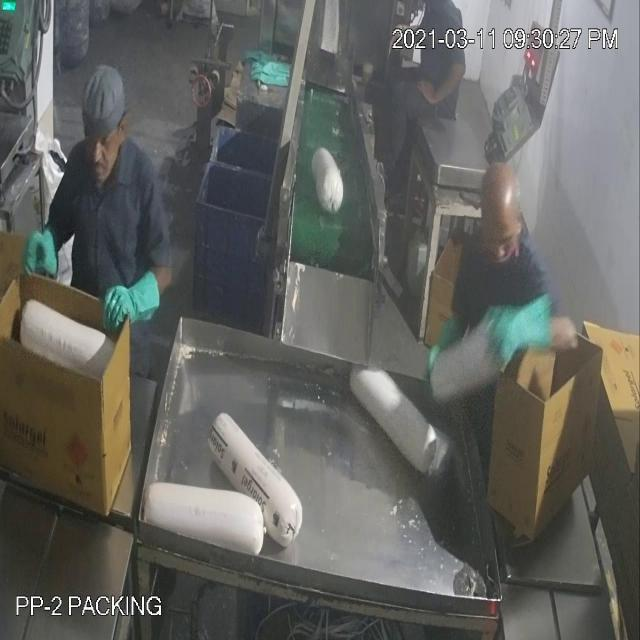Gloves: (59, 60, 446, 300)
